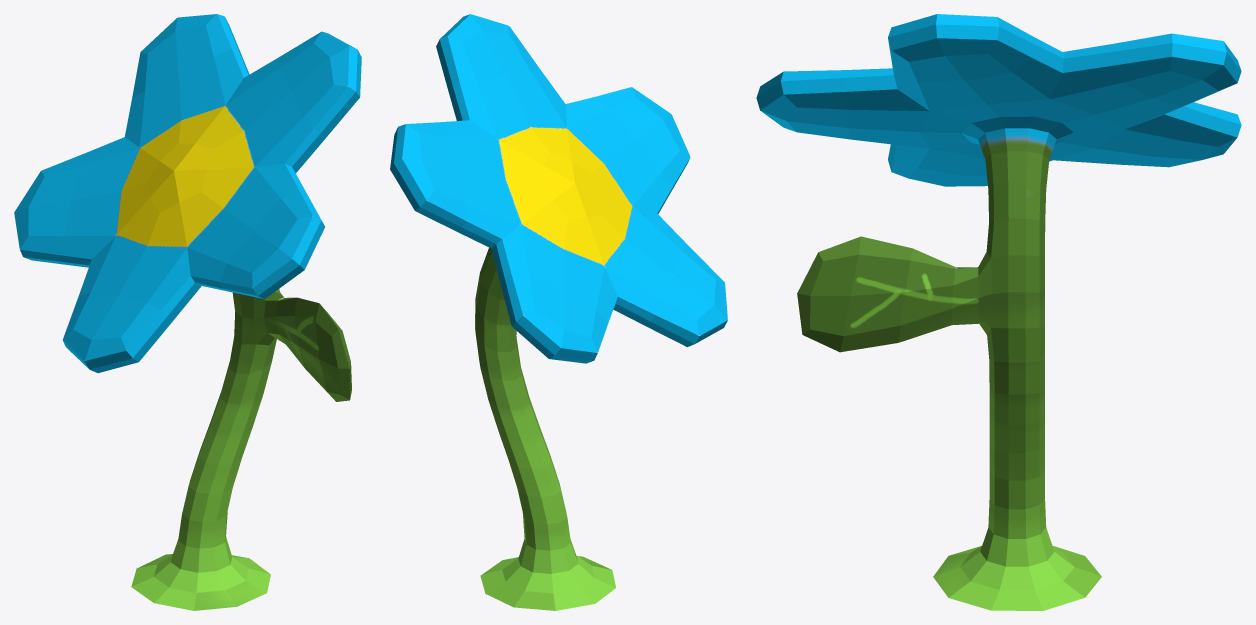
The model's file is flor azul.fbx.
The picture shows the model from 3 angles, left to right: view 1: azimuth 30°, elevation 25°; view 2: azimuth 150°, elevation 25°; view 3: azimuth 270°, elevation 25°; orthographic projection. The views are drawn at different scales.
Visible parts, largest first — view 1: floar azu; view 2: floar azu; view 3: floar azu.
Boxes of the visible parts, box(x1,y1,x2,y2) form: floar azu: box(14, 14, 361, 610); floar azu: box(390, 14, 727, 610); floar azu: box(756, 14, 1241, 610).
Size of the model in its own units: 157 by 287 by 201.
1 material, 1 textured.
